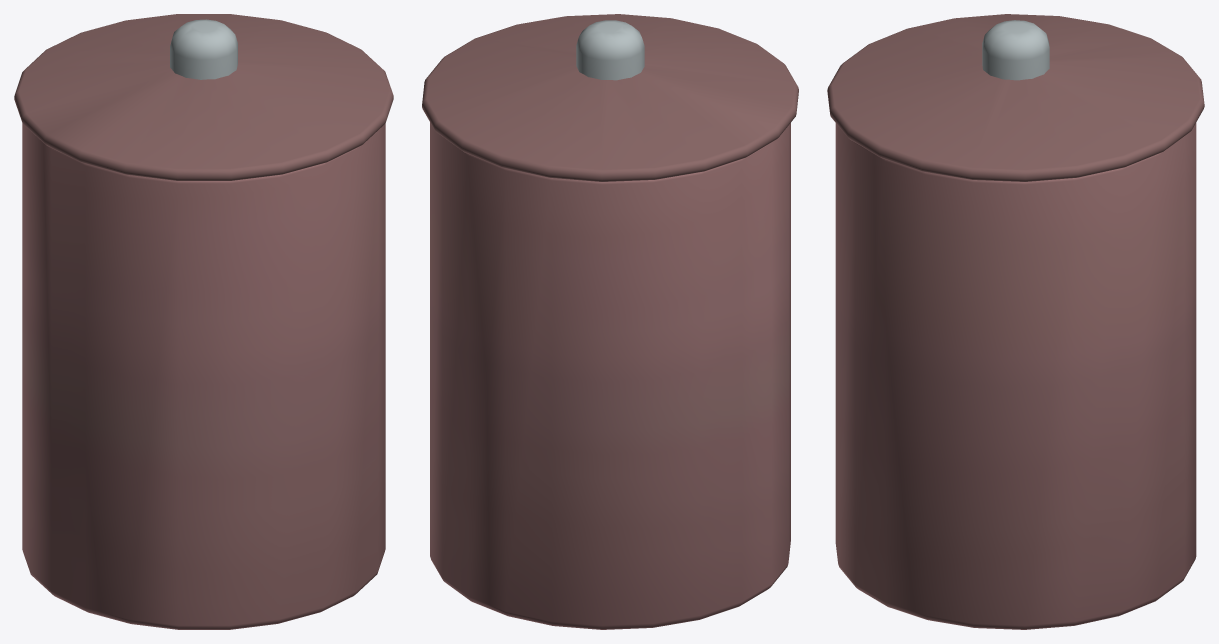
File: TallPan.fbx
3 views of the same model, side by side, from view 1: azimuth 30°, elevation 25°; view 2: azimuth 150°, elevation 25°; view 3: azimuth 270°, elevation 25° (orthographic).
Parts seen in each view (by area): view 1: Cylinder.013, Cylinder.014; view 2: Cylinder.013, Cylinder.014; view 3: Cylinder.013, Cylinder.014.
Part boxes in pixels (left/top/right/bottom): Cylinder.013: left=22, top=123, right=385, bottom=629; Cylinder.014: left=14, top=14, right=393, bottom=180; Cylinder.013: left=430, top=122, right=790, bottom=629; Cylinder.014: left=422, top=14, right=798, bottom=181; Cylinder.013: left=835, top=123, right=1196, bottom=629; Cylinder.014: left=827, top=14, right=1204, bottom=181.
Bounding box in the file's own units: 1.97 × 3.03 × 1.96.
